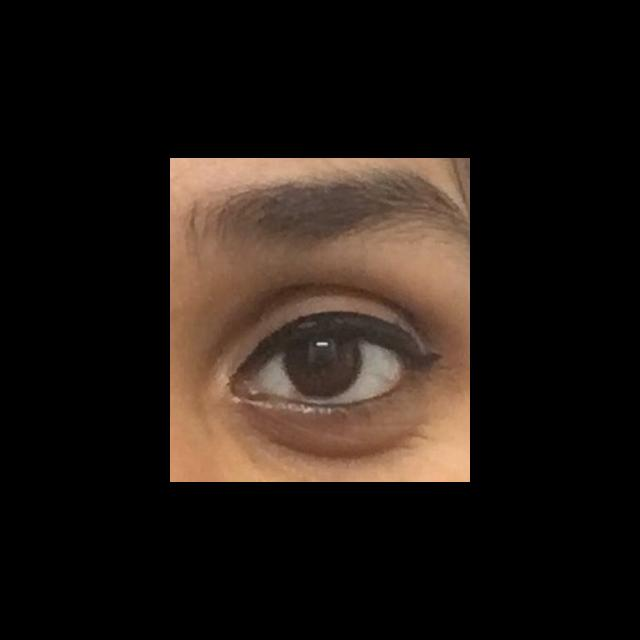eye: (251, 332, 403, 406)
iris: (284, 334, 362, 400)
